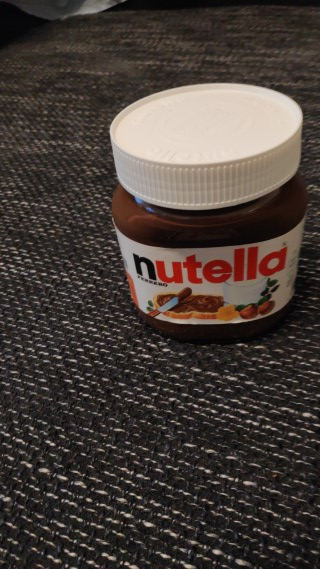nutella: (107, 79, 310, 345)
